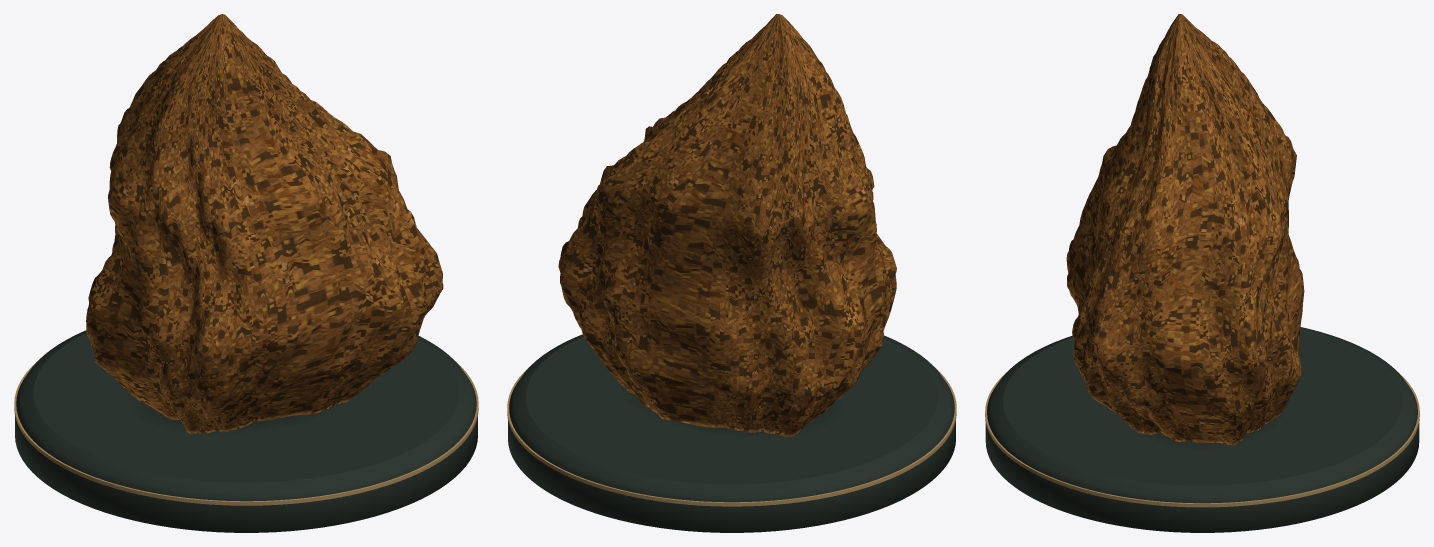
File: lingstone-concept-06-v191-97b756fab39c.glb
The picture shows the model from 3 angles, left to right: view 1: azimuth 30°, elevation 25°; view 2: azimuth 150°, elevation 25°; view 3: azimuth 270°, elevation 25°; orthographic projection. The views are drawn at different scales.
Visible parts, largest first — view 1: XY-CONCEPT-006 concept stone, Centered beveled display plinth, Champagne gold edge; view 2: XY-CONCEPT-006 concept stone, Centered beveled display plinth, Champagne gold edge; view 3: XY-CONCEPT-006 concept stone, Centered beveled display plinth, Champagne gold edge.
Boxes of the visible parts, x1,y1,x2,y2 form: XY-CONCEPT-006 concept stone: [86, 14, 443, 433]; Centered beveled display plinth: [15, 330, 477, 532]; Champagne gold edge: [14, 362, 478, 505]; XY-CONCEPT-006 concept stone: [558, 14, 896, 436]; Centered beveled display plinth: [508, 334, 955, 532]; Champagne gold edge: [507, 367, 956, 506]; XY-CONCEPT-006 concept stone: [1066, 14, 1304, 445]; Centered beveled display plinth: [985, 327, 1419, 532]; Champagne gold edge: [985, 372, 1419, 507].
Bounding box in the file's own units: 1.73 × 1.82 × 1.73.
Materials: 4 (1 with a texture image).
